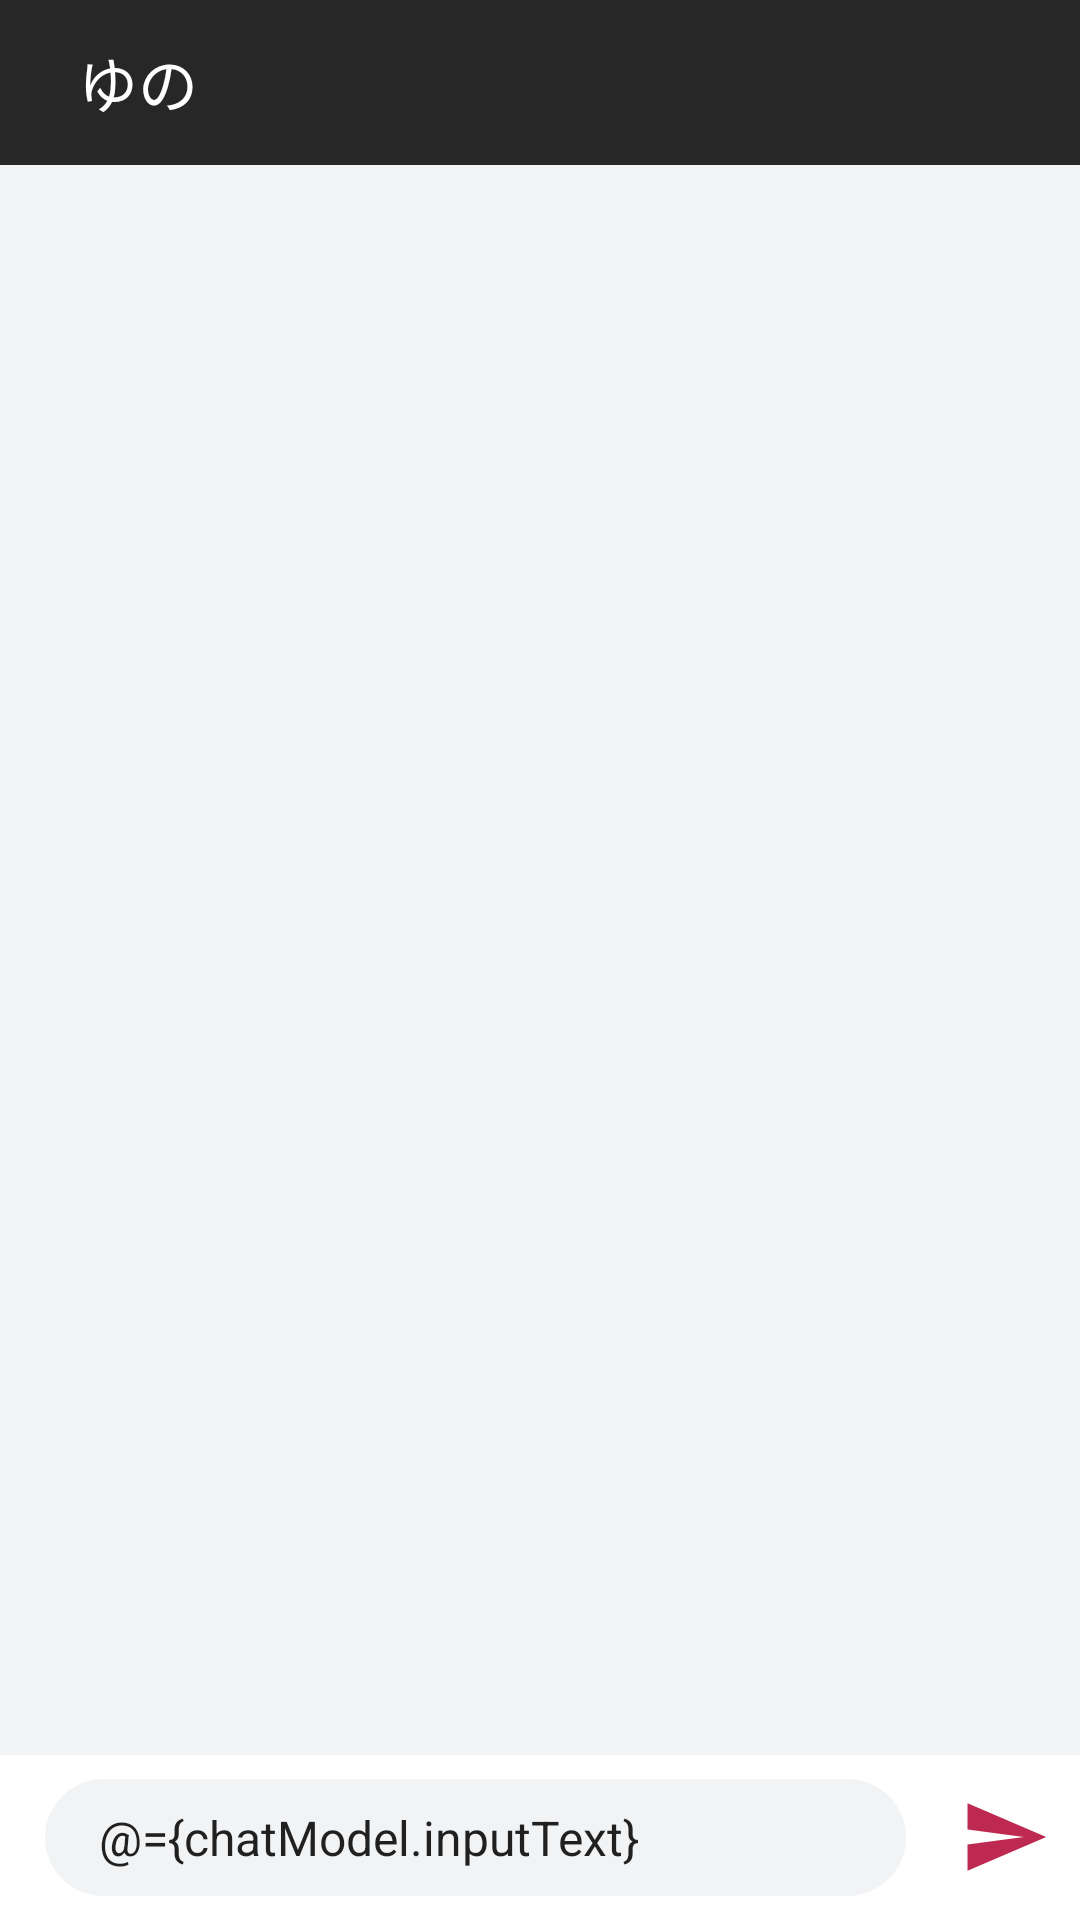

Screen size 1080*1920. Icon name, then its box in pixels as region(x1, y1, x2, y2):
chat send: region(967, 1803, 1046, 1871)
